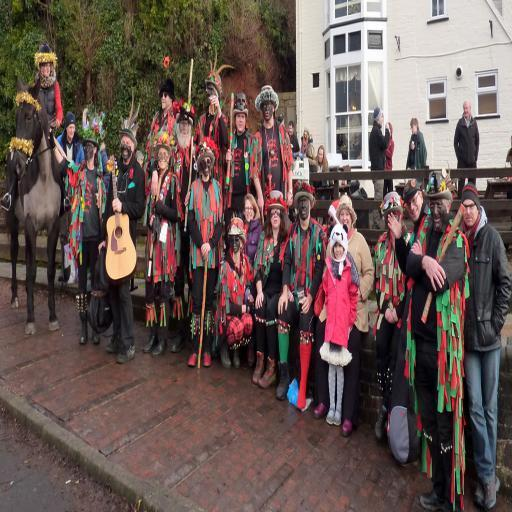horse: (6, 70, 66, 335)
